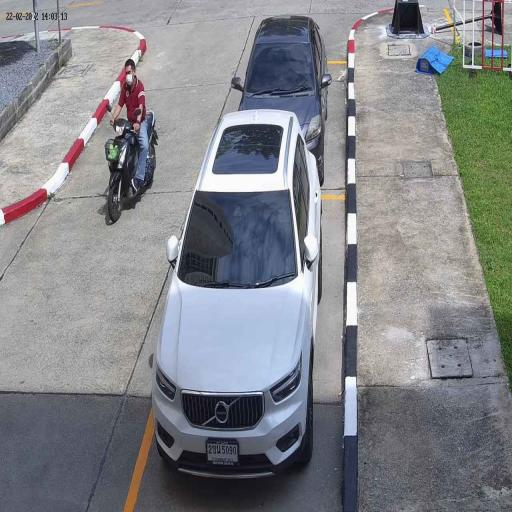car: (150, 110, 325, 486), (238, 14, 326, 184)
motorcycle: (104, 120, 159, 223)
